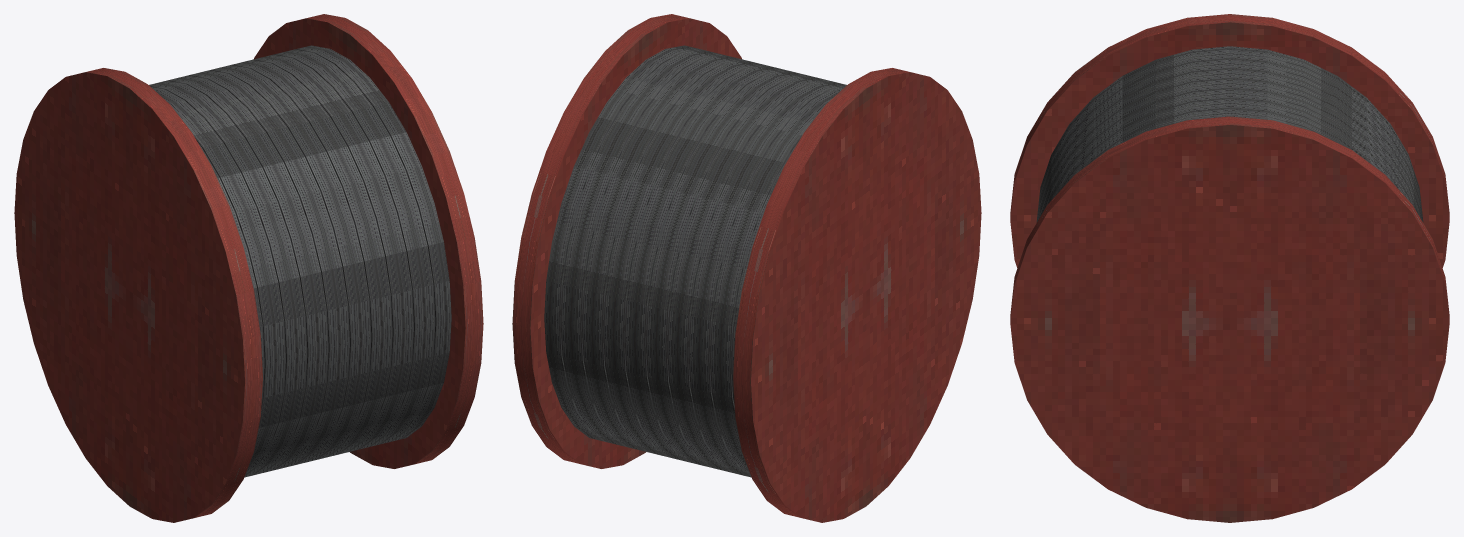
Rendered from wash-reel.glb.
3 views of the same model, side by side, from view 1: azimuth 30°, elevation 25°; view 2: azimuth 150°, elevation 25°; view 3: azimuth 270°, elevation 25° (orthographic). The views are drawn at different scales.
Visible parts, largest first — view 1: cheek (×2), wrap (×10); view 2: cheek (×2), wrap (×10); view 3: cheek (×2), wrap (×8).
Part boxes in pixels (x1=…): cheek (×2): x1=14, y1=14, x2=483, y2=522; wrap (×10): x1=149, y1=45, x2=451, y2=477; cheek (×2): x1=512, y1=14, x2=981, y2=522; wrap (×10): x1=544, y1=45, x2=846, y2=477; cheek (×2): x1=1010, y1=14, x2=1449, y2=522; wrap (×8): x1=1036, y1=46, x2=1423, y2=222.
Bounding box in the file's own units: 0.3881 × 0.65 × 0.65.
2 materials, 2 textured.
